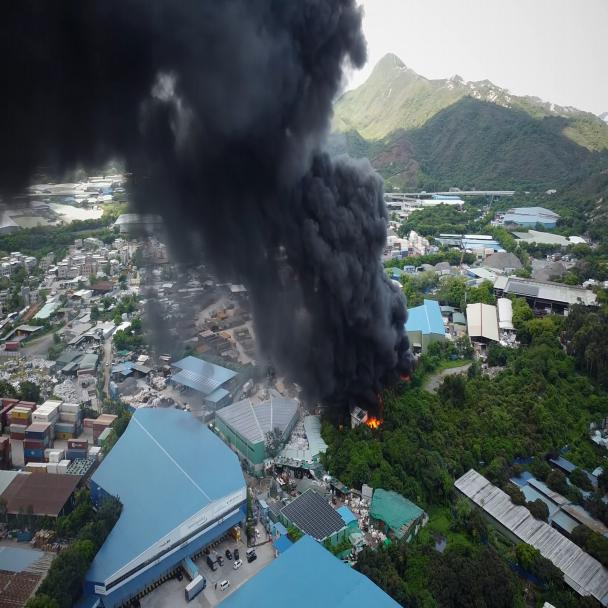Fire: (288, 378, 483, 476)
smoke: (0, 0, 388, 360)
